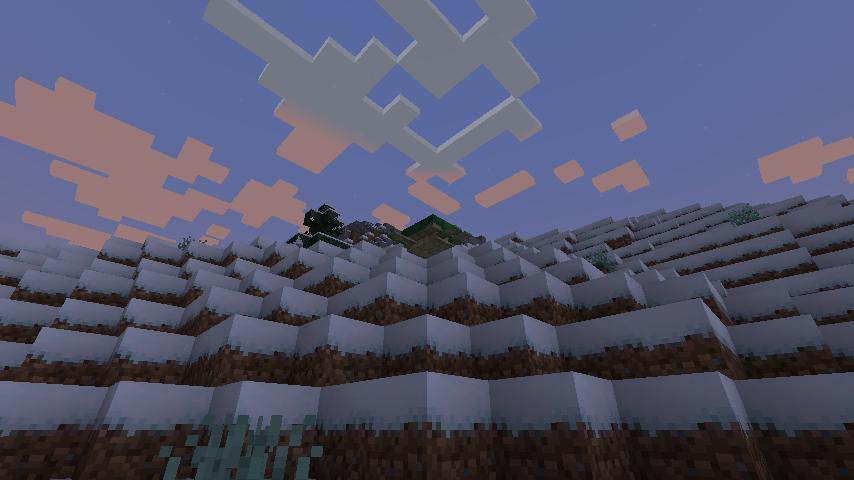turtle: (386, 212, 471, 259)
